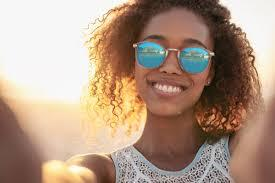sunglasses: (132, 38, 222, 75)
